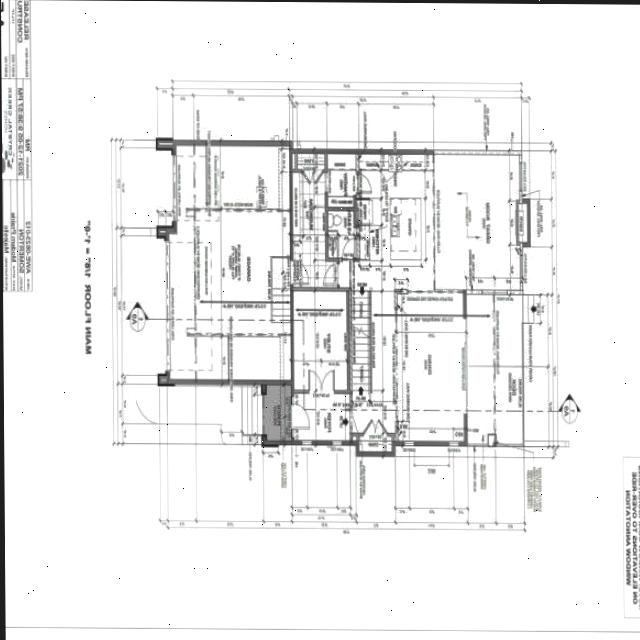room: (292, 290, 346, 391), (291, 172, 336, 288), (327, 154, 355, 208), (265, 385, 290, 441), (327, 210, 356, 258)
